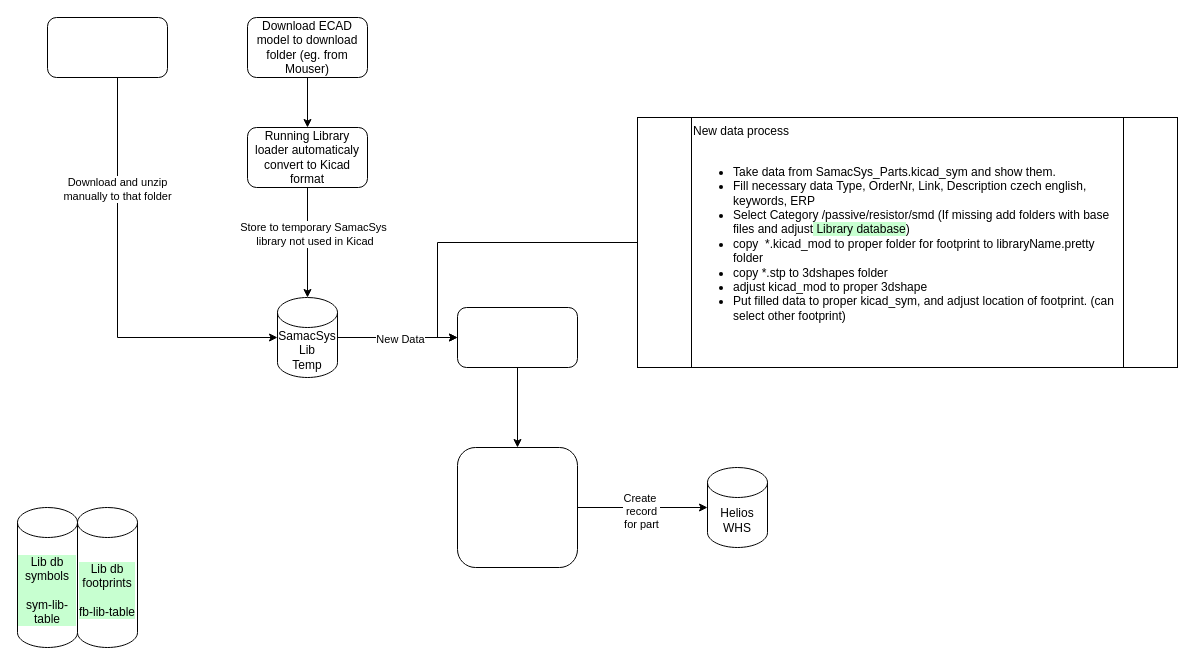
This 1195x665 diagram has some shape labels left out. The shapes that lost their labels are listed below. From the top down, each one's centre as x and y in pixels, then its label:
At point (107, 47): "Download Kicad Library".
At point (517, 337): "Whs library conventer pop data and move to proper library KICAD PLUGIN".
At point (517, 507): "Store to proper WHS_Kicad_Library Adjust format Add necessary property".
